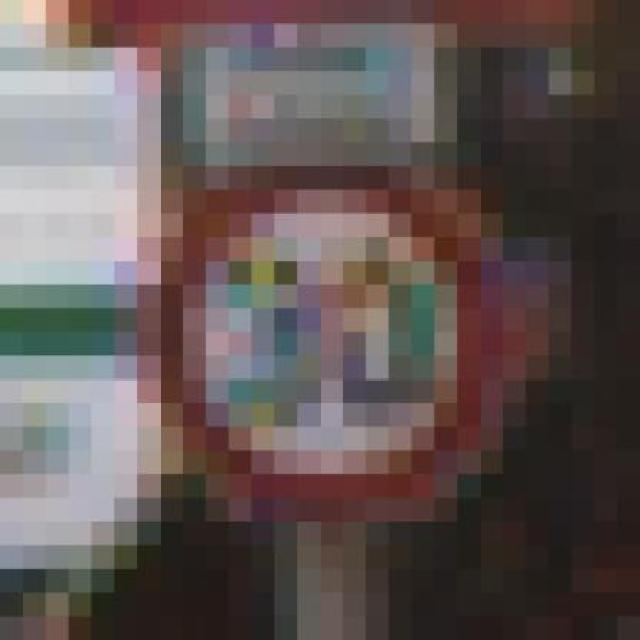Speed Limit 30 KMPh: (69, 166, 548, 569)
